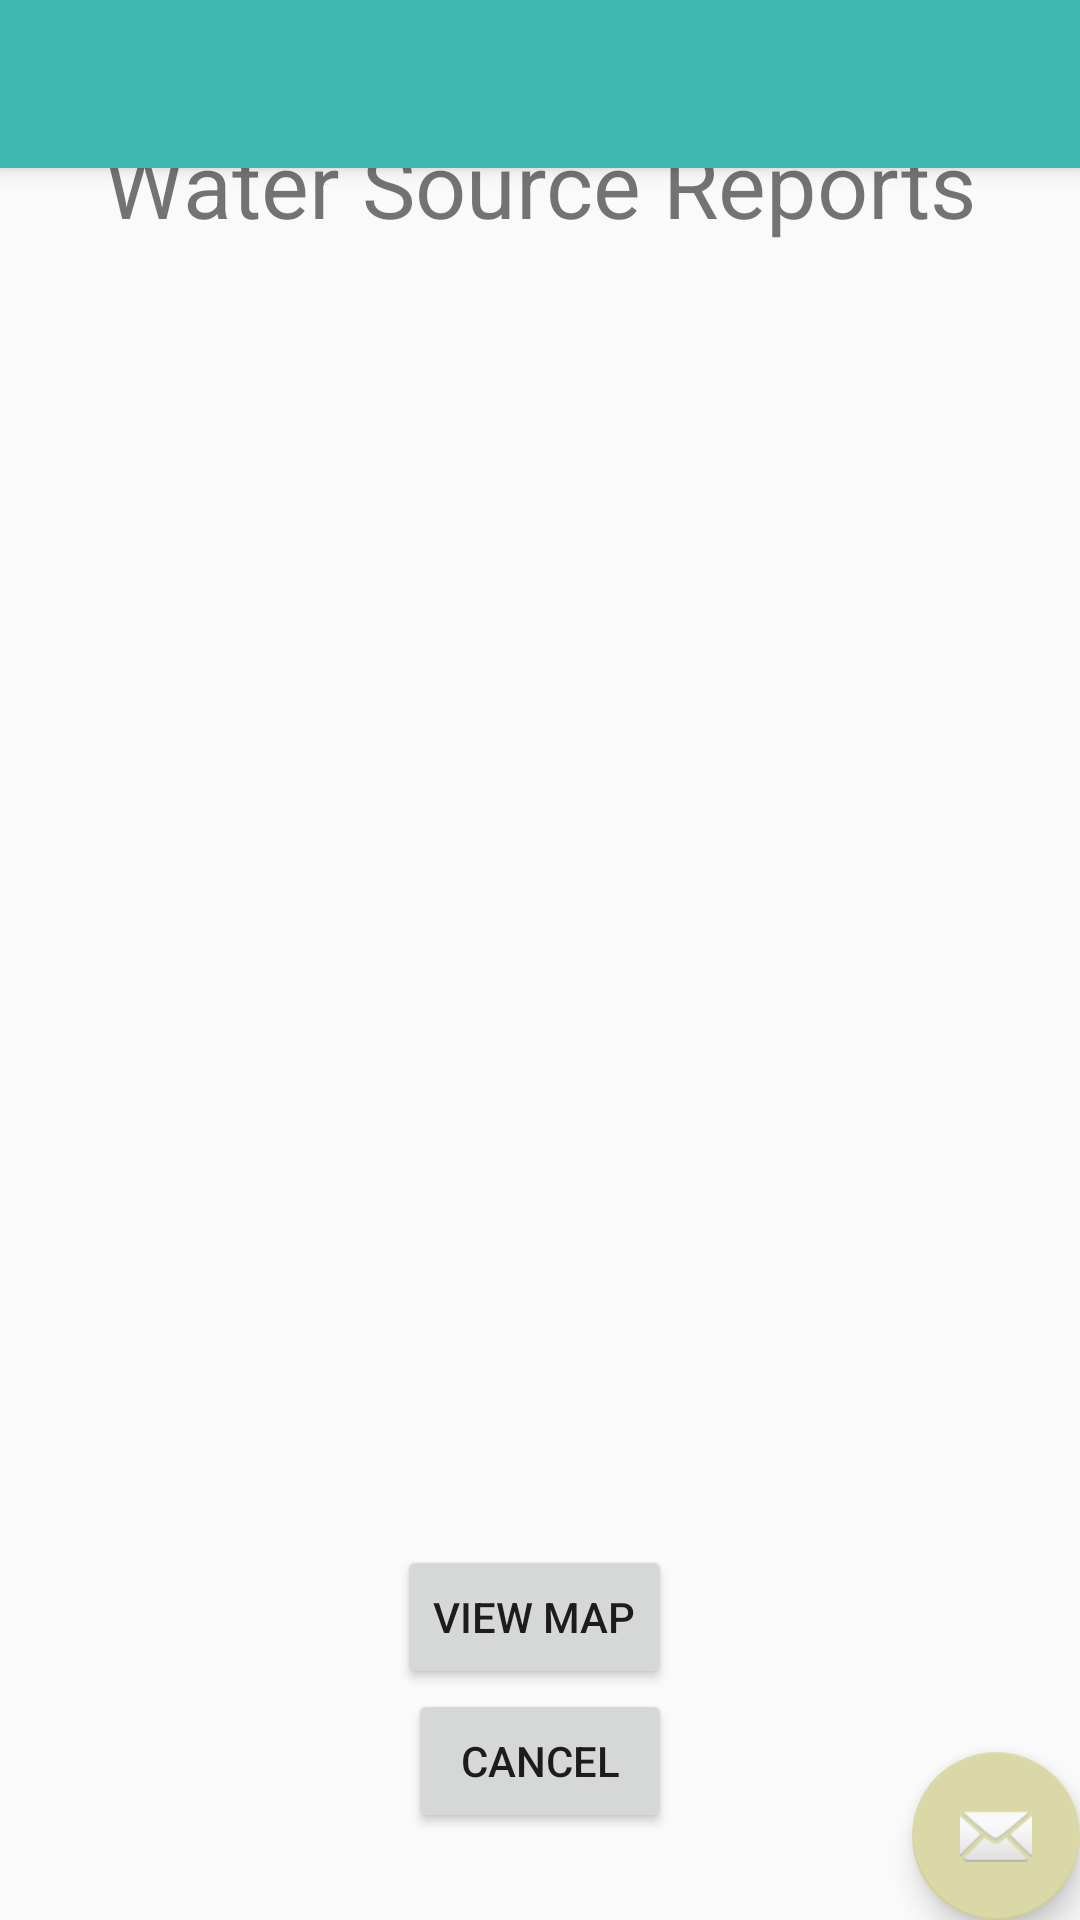

Icons on this 1080w x 1920h Android screen, each with its box as (x1, y1, x2, y2):
email: (912, 1752, 1080, 1920)
